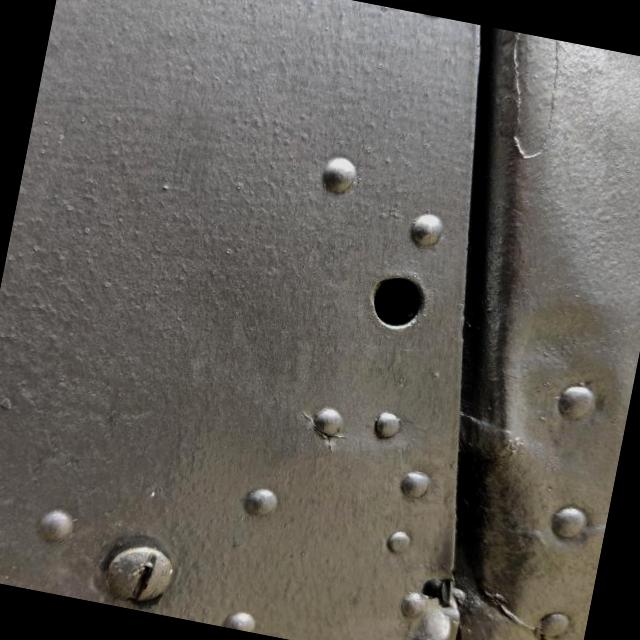Missing Fastener: (372, 274, 426, 329)
